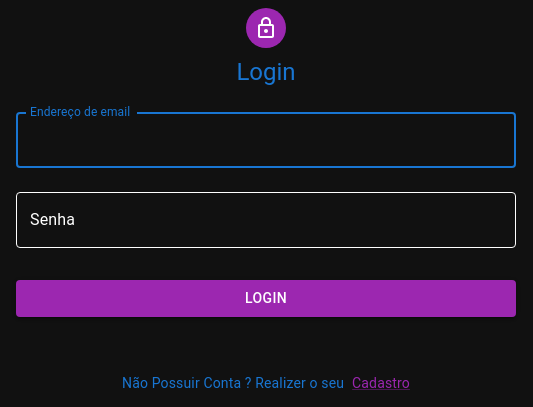
Login Page › should return error message, if the email is invalid
The width and height of the screenshot is (533, 407).
Type "email" into the field labelled "Endereço de email".
click(266, 140); type("email")  # box [16, 112, 516, 168]
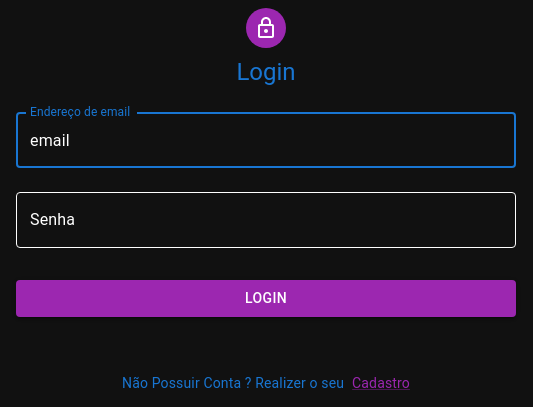
Click the button "Login".
click(266, 298)  # box [16, 280, 516, 316]
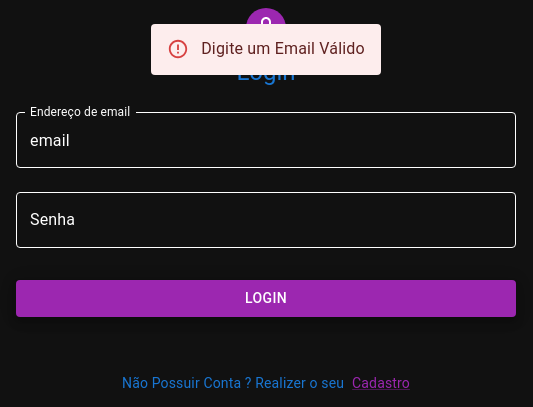
Expected: the text "Digite um Email Válido" is shown, [201, 39, 365, 58]
